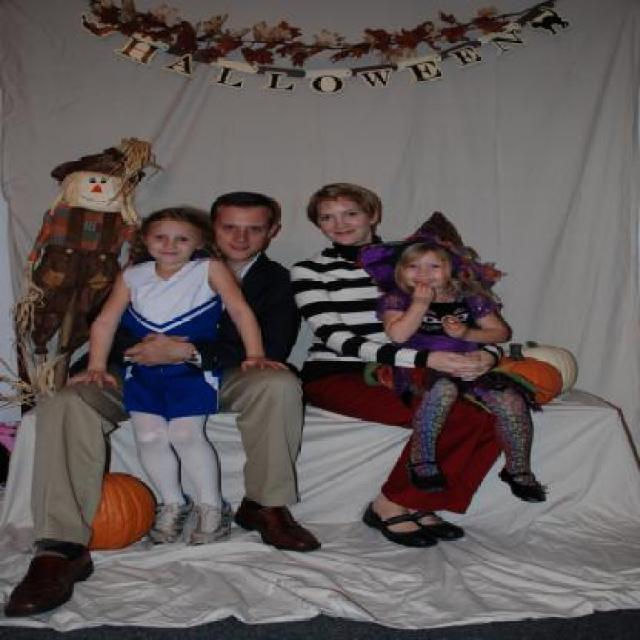Pumpkin: (80, 474, 145, 546)
